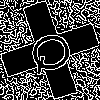Q: (25, 25, 84, 78)
